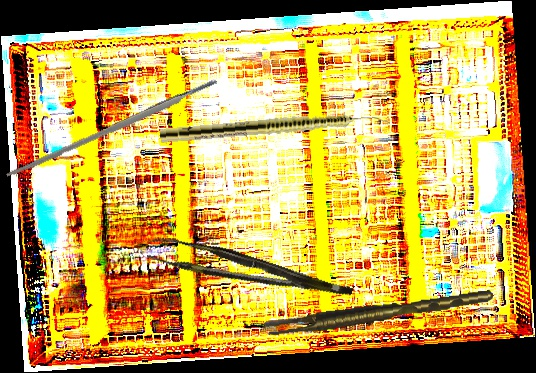Handpiece: (159, 108, 391, 146)
Scalpel Handle: (4, 77, 220, 181)
Tissue Forceps: (146, 225, 354, 321), (262, 289, 495, 338)
